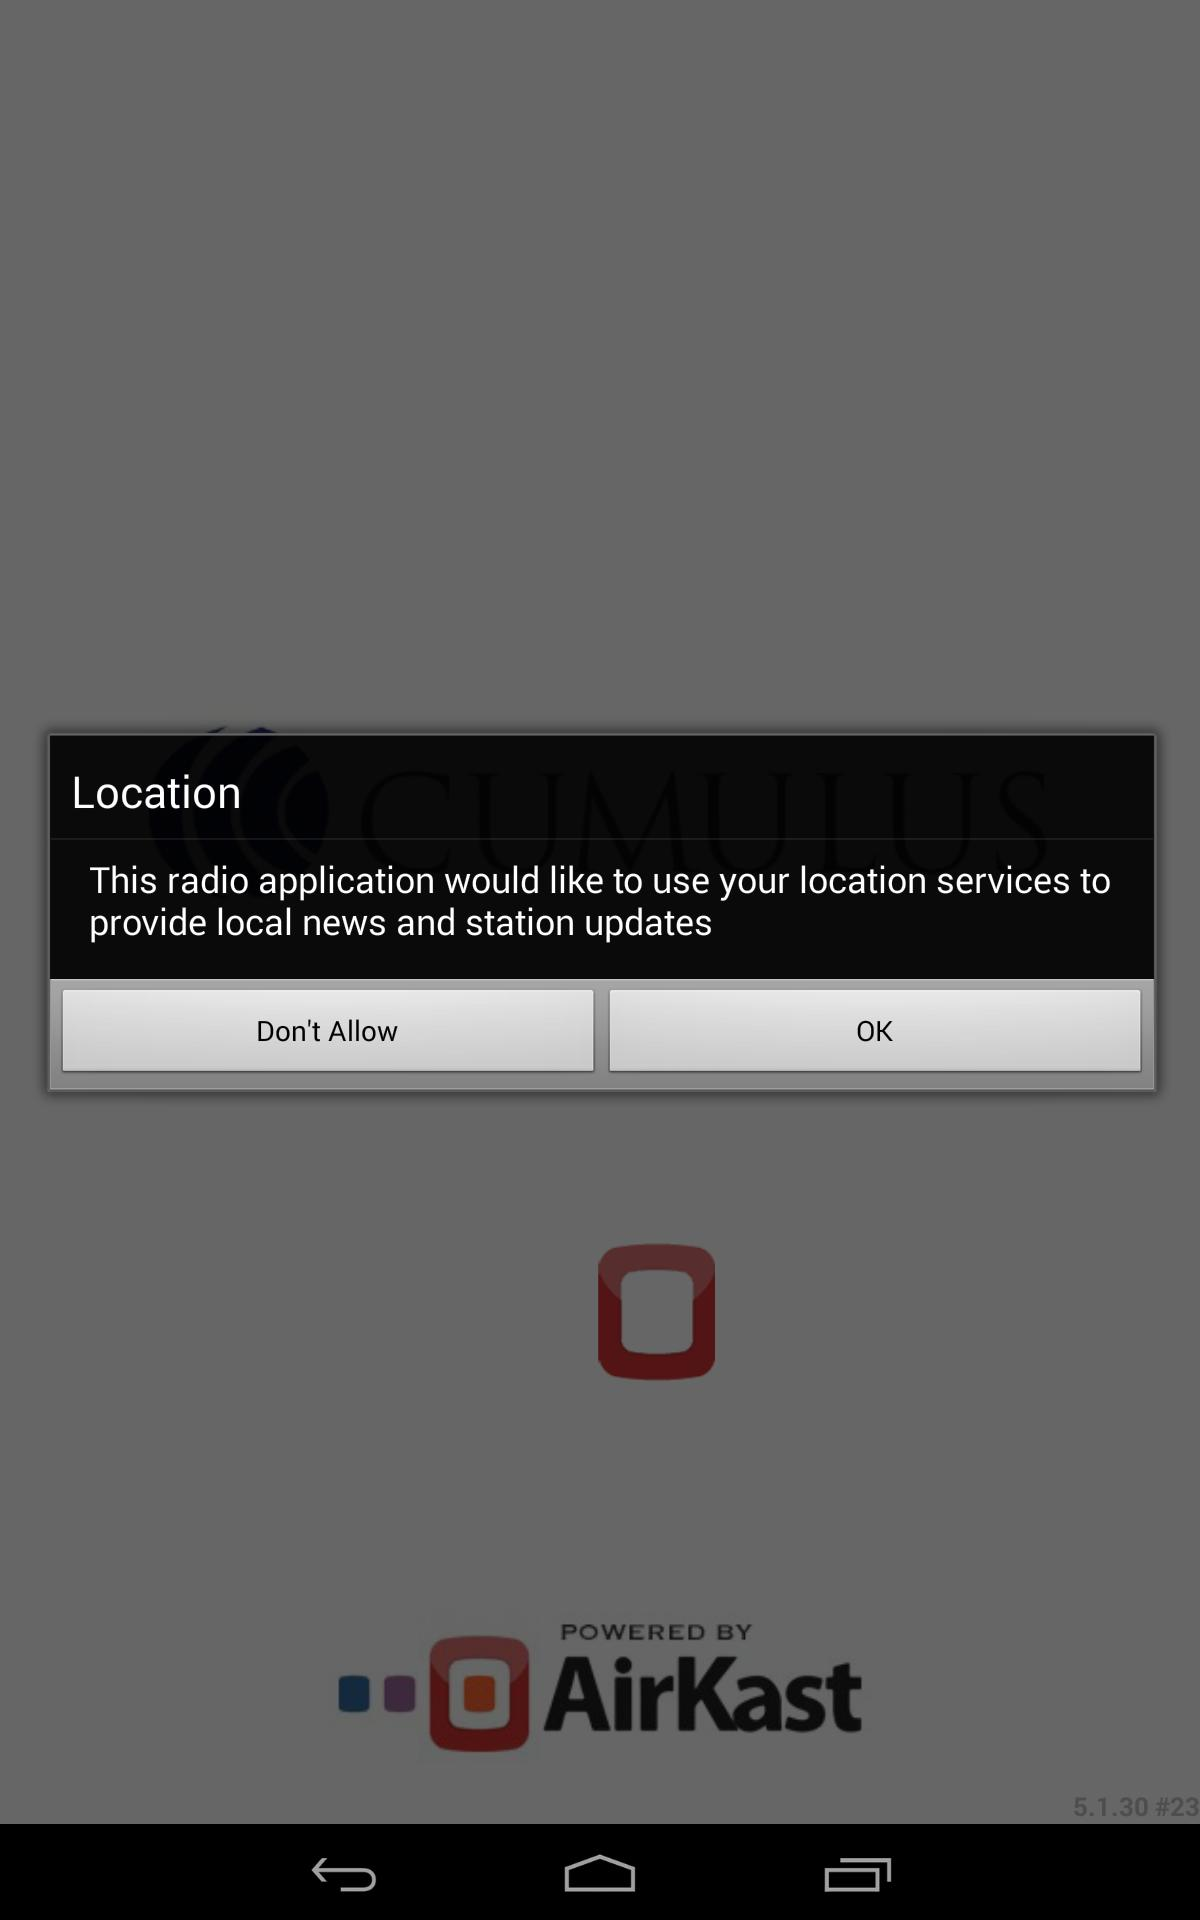android.widget.Button: (601, 987, 1149, 1082), (55, 987, 601, 1082)
android.widget.FrameLayout: (19, 699, 1181, 1125)
android.widget.ImageView: (51, 838, 1153, 840)
android.widget.LinearLayout: (19, 699, 1181, 1125), (26, 979, 1178, 1120), (26, 840, 1178, 979), (26, 717, 1178, 840), (51, 979, 1153, 1088), (71, 749, 1134, 820)
android.widget.ScrollView: (51, 840, 1153, 979)
android.widget.TextView: (79, 845, 1134, 955), (71, 749, 1134, 820)
